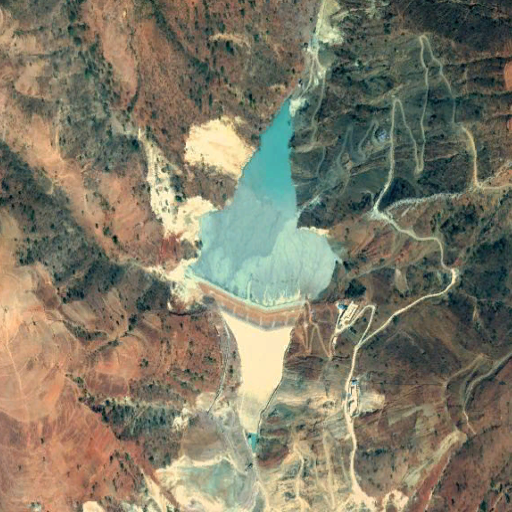tp: (188, 101, 339, 333)
